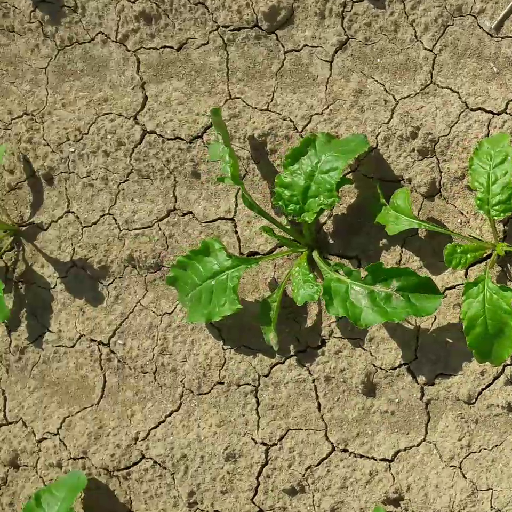sugarbeet: (150, 105, 445, 354), (359, 128, 511, 376)
